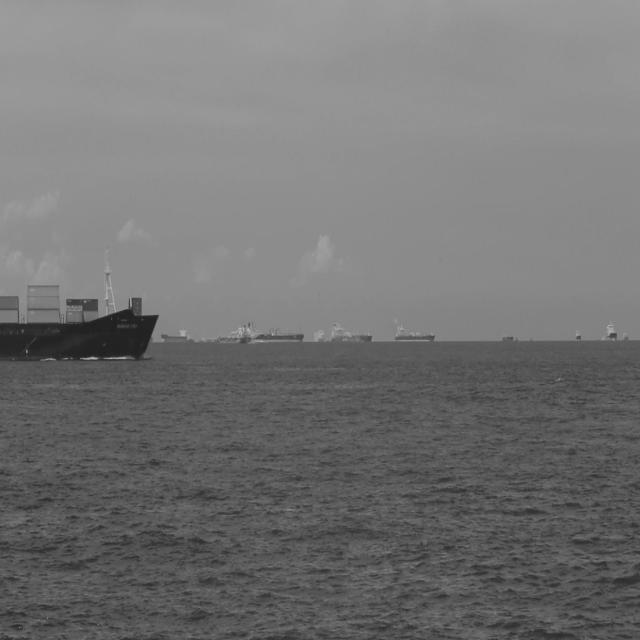ship: (0, 258, 159, 362), (394, 316, 438, 342), (331, 318, 378, 342), (225, 321, 262, 346), (260, 327, 308, 344), (163, 325, 196, 343), (148, 333, 155, 346)
